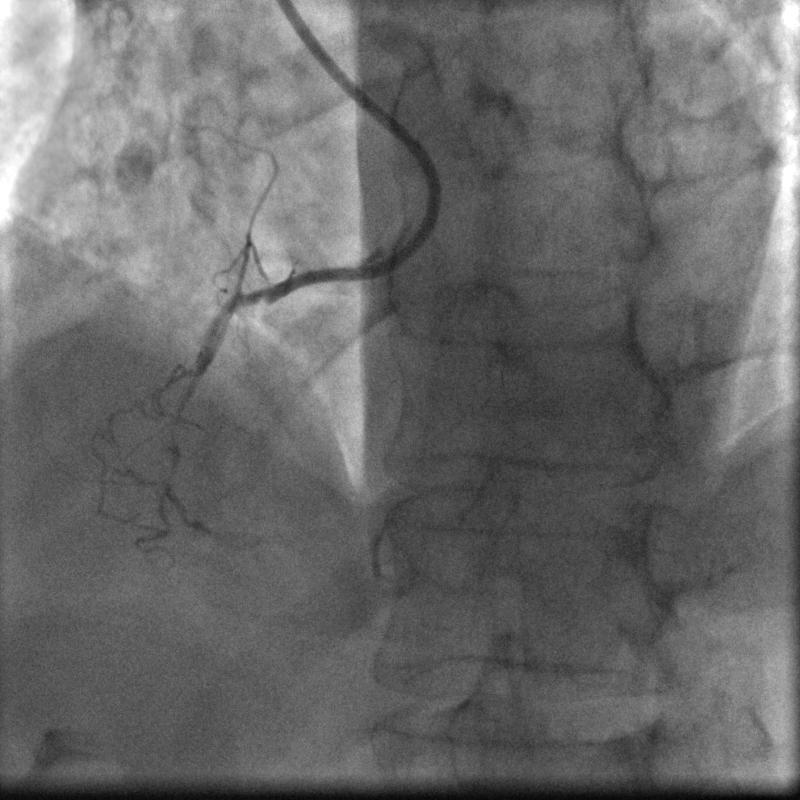Stenosis: (183, 347, 218, 402)
